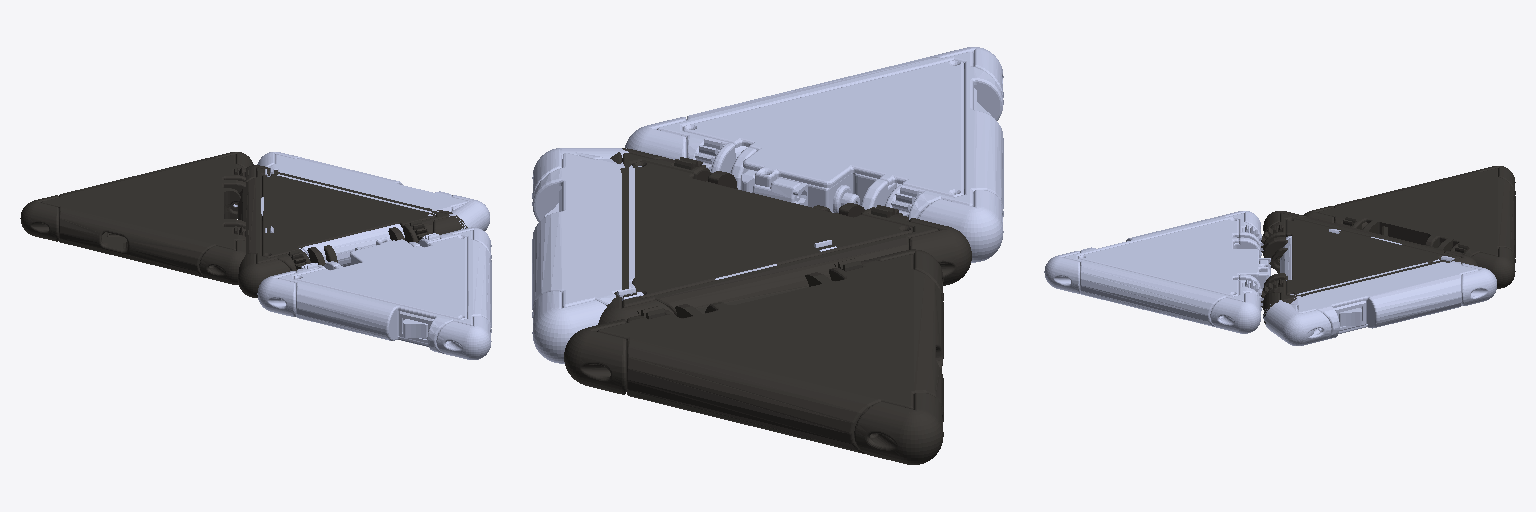
robot.urdf — 2modules:
<?xml version="1.0" encoding="utf-8"?>
<!-- This URDF was automatically created by SolidWorks to URDF Exporter! Originally created by [author] ([email redacted]) 
     Commit Version: 1.6.0-4-g7f85cfe  Build Version: 1.6.7995.38578
     For more information, please see http://wiki.ros.org/sw_urdf_exporter -->
<robot
  name="2modules">
  <link
    name="base_piece">
    <inertial>
      <origin
        xyz="0.0010345 0.005326 0.010966"
        rpy="0 0 0" />
      <mass
        value="0.185" />
      <inertia
        ixx="4.7155E-05"
        ixy="1.4654E-07"
        ixz="-5.4158E-08"
        iyy="4.6452E-05"
        iyz="4.434E-08"
        izz="8.9367E-05" />
    </inertial>
    <visual>
      <origin
        xyz="0 0 0"
        rpy="0 0 0" />
      <geometry>
        <mesh
          filename="package://2modules/meshes/base_piece.STL" />
      </geometry>
      <material
        name="">
        <color
          rgba="0.79216 0.81961 0.93333 1" />
      </material>
    </visual>
    <collision>
      <origin
        xyz="0 0 0"
        rpy="0 0 0" />
      <geometry>
        <mesh
          filename="package://2modules/meshes/base_piece.STL" />
      </geometry>
    </collision>
  </link>
  <link
    name="arm1">
    <inertial>
      <origin
        xyz="0.0087368 9.3905E-07 -0.0054744"
        rpy="0 0 0" />
      <mass
        value="0.004" />
      <inertia
        ixx="1.8096E-08"
        ixy="-1.7121E-12"
        ixz="4.7185E-09"
        iyy="1.3363E-07"
        iyz="2.3371E-12"
        izz="1.4184E-07" />
    </inertial>
    <visual>
      <origin
        xyz="0 0 0"
        rpy="0 0 0" />
      <geometry>
        <mesh
          filename="package://2modules/meshes/arm1.STL" />
      </geometry>
      <material
        name="">
        <color
          rgba="0.79216 0.81961 0.93333 1" />
      </material>
    </visual>
    <collision>
      <origin
        xyz="0 0 0"
        rpy="0 0 0" />
      <geometry>
        <mesh
          filename="package://2modules/meshes/arm1.STL" />
      </geometry>
    </collision>
  </link>
  <joint
    name="joint1"
    type="revolute">
    <origin
      xyz="0 0.033775 0.011"
      rpy="1.5708 0 1.5712" />
    <parent
      link="base_piece" />
    <child
      link="arm1" />
    <axis
      xyz="0 0 -1" />
    <limit
      lower="-1.57"
      upper="1.57"
      effort="2"
      velocity="2" />
  </joint>
  <link
    name="piece1">
    <inertial>
      <origin
        xyz="0.03453 -0.00020927 -0.00012664"
        rpy="0 0 0" />
      <mass
        value="0.1075" />
      <inertia
        ixx="4.5118E-05"
        ixy="-2.4419E-08"
        ixz="-3.1795E-07"
        iyy="8.4255E-05"
        iyz="-2.9297E-09"
        izz="4.26E-05" />
    </inertial>
    <visual>
      <origin
        xyz="0 0 0"
        rpy="0 0 0" />
      <geometry>
        <mesh
          filename="package://2modules/meshes/piece1.STL" />
      </geometry>
      <material
        name="">
        <color
          rgba="0.26275 0.25098 0.23922 1" />
      </material>
    </visual>
    <collision>
      <origin
        xyz="0 0 0"
        rpy="0 0 0" />
      <geometry>
        <mesh
          filename="package://2modules/meshes/piece1.STL" />
      </geometry>
    </collision>
  </link>
  <joint
    name="joint2"
    type="revolute">
    <origin
      xyz="0.020005 0 0"
      rpy="0 0 0" />
    <parent
      link="arm1" />
    <child
      link="piece1" />
    <axis
      xyz="0 0 -1" />
    <limit
      lower="-1.57"
      upper="1.57"
      effort="2"
      velocity="2" />
  </joint>
  <link
    name="connecter">
    <inertial>
      <origin
        xyz="0.0095 9.2482E-14 0.058546"
        rpy="0 0 0" />
      <mass
        value="0" />
      <inertia
        ixx="3.7274E-07"
        ixy="-5.9232E-18"
        ixz="1.3159E-13"
        iyy="9.8046E-07"
        iyz="-2.255E-23"
        izz="9.8046E-07" />
    </inertial>
    <visual>
      <origin
        xyz="0 0 0"
        rpy="0 0 0" />
      <geometry>
        <mesh
          filename="package://2modules/meshes/connecter.STL" />
      </geometry>
      <material
        name="">
        <color
          rgba="0.79216 0.81961 0.93333 1" />
      </material>
    </visual>
    <collision>
      <origin
        xyz="0 0 0"
        rpy="0 0 0" />
      <geometry>
        <mesh
          filename="package://2modules/meshes/connecter.STL" />
      </geometry>
    </collision>
  </link>
  <joint
    name="connect_joint1"
    type="revolute">
    <origin
      xyz="0.05071 0 0.029295"
      rpy="0 -1.0476 0" />
    <parent
      link="piece1" />
    <child
      link="connecter" />
    <axis
      xyz="0 0 1" />
    <limit
      lower="-3.14"
      upper="3.14"
      effort="2"
      velocity="2" />
  </joint>
  <link
    name="piece2">
    <inertial>
      <origin
        xyz="0.03736 -3.3609E-05 -0.0040952"
        rpy="0 0 0" />
      <mass
        value="0.185" />
      <inertia
        ixx="4.7106E-05"
        ixy="-2.4733E-08"
        ixz="2.3093E-07"
        iyy="8.9367E-05"
        iyz="-6.5479E-08"
        izz="4.6501E-05" />
    </inertial>
    <visual>
      <origin
        xyz="0 0 0"
        rpy="0 0 0" />
      <geometry>
        <mesh
          filename="package://2modules/meshes/piece2.STL" />
      </geometry>
      <material
        name="">
        <color
          rgba="0.79216 0.81961 0.93333 1" />
      </material>
    </visual>
    <collision>
      <origin
        xyz="0 0 0"
        rpy="0 0 0" />
      <geometry>
        <mesh
          filename="package://2modules/meshes/piece2.STL" />
      </geometry>
    </collision>
  </link>
  <joint
    name="connect_joint2"
    type="revolute">
    <origin
      xyz="0.019 0 0"
      rpy="0 0 0" />
    <parent
      link="connecter" />
    <child
      link="piece2" />
    <axis
      xyz="0 0 1" />
    <limit
      lower="-3.14"
      upper="-3.14"
      effort="2"
      velocity="2" />
  </joint>
  <link
    name="arm2">
    <inertial>
      <origin
        xyz="0.0087368 9.3905E-07 -0.0054744"
        rpy="0 0 0" />
      <mass
        value="0.004" />
      <inertia
        ixx="1.8096E-08"
        ixy="-1.7121E-12"
        ixz="4.7185E-09"
        iyy="1.3363E-07"
        iyz="2.3371E-12"
        izz="1.4184E-07" />
    </inertial>
    <visual>
      <origin
        xyz="0 0 0"
        rpy="0 0 0" />
      <geometry>
        <mesh
          filename="package://2modules/meshes/arm2.STL" />
      </geometry>
      <material
        name="">
        <color
          rgba="0.79216 0.81961 0.93333 1" />
      </material>
    </visual>
    <collision>
      <origin
        xyz="0 0 0"
        rpy="0 0 0" />
      <geometry>
        <mesh
          filename="package://2modules/meshes/arm2.STL" />
      </geometry>
    </collision>
  </link>
  <joint
    name="joint3"
    type="revolute">
    <origin
      xyz="0.050689 0 -0.02925"
      rpy="0 1.0476 0" />
    <parent
      link="piece2" />
    <child
      link="arm2" />
    <axis
      xyz="0 0 -1" />
    <limit
      lower="-1.57"
      upper="1.57"
      effort="2"
      velocity="2" />
  </joint>
  <link
    name="piece3">
    <inertial>
      <origin
        xyz="0.03453 -0.00020927 -0.00012663"
        rpy="0 0 0" />
      <mass
        value="0.1075" />
      <inertia
        ixx="4.5118E-05"
        ixy="-2.4421E-08"
        ixz="-3.1795E-07"
        iyy="8.4255E-05"
        iyz="-2.932E-09"
        izz="4.26E-05" />
    </inertial>
    <visual>
      <origin
        xyz="0 0 0"
        rpy="0 0 0" />
      <geometry>
        <mesh
          filename="package://2modules/meshes/piece3.STL" />
      </geometry>
      <material
        name="">
        <color
          rgba="0.26275 0.25098 0.23922 1" />
      </material>
    </visual>
    <collision>
      <origin
        xyz="0 0 0"
        rpy="0 0 0" />
      <geometry>
        <mesh
          filename="package://2modules/meshes/piece3.STL" />
      </geometry>
    </collision>
  </link>
  <joint
    name="joint4"
    type="revolute">
    <origin
      xyz="0.020005 0 0"
      rpy="0 0 0" />
    <parent
      link="arm2" />
    <child
      link="piece3" />
    <axis
      xyz="0 0 -1" />
    <limit
      lower="-1.57"
      upper="1.57"
      effort="2"
      velocity="2" />
  </joint>
</robot>

--- Facts derived from the render (not from the file) ---
The picture shows the robot from 3 angles, left to right: view 1: azimuth 30°, elevation 25°; view 2: azimuth 150°, elevation 25°; view 3: azimuth 270°, elevation 25°; orthographic projection.
Model 2modules with 7 links and 6 joints (6 revolute), rooted at base_piece, posed all joints at 0 but 1 set to mid-range because 0 is outside their limits (connect_joint2 = -3.14).
Visible links, largest first — view 1: base_piece, piece3, piece1, piece2, connecter; view 2: piece3, base_piece, piece1, piece2; view 3: base_piece, piece3, piece2, piece1, connecter.
Link boxes in pixels (box(x1,y1,x2,y2)): base_piece: box(257, 227, 491, 359); piece3: box(20, 152, 253, 284); piece1: box(238, 165, 467, 297); piece2: box(257, 152, 489, 266); connecter: box(449, 201, 489, 230); piece3: box(564, 249, 943, 464); base_piece: box(625, 47, 1003, 262); piece1: box(598, 148, 971, 324); piece2: box(532, 148, 836, 363); base_piece: box(1044, 211, 1270, 333); piece3: box(1303, 166, 1515, 288); piece2: box(1280, 229, 1496, 345); piece1: box(1261, 211, 1476, 323); connecter: box(1263, 300, 1314, 345).
Size in the robot's own frame: 0.2119 by 0.2613 by 0.0221 metres.
6 mesh visuals loaded from 7 distinct referenced files (6 binary STL); not drawn: 1 (reference not matched to a file when rendering).